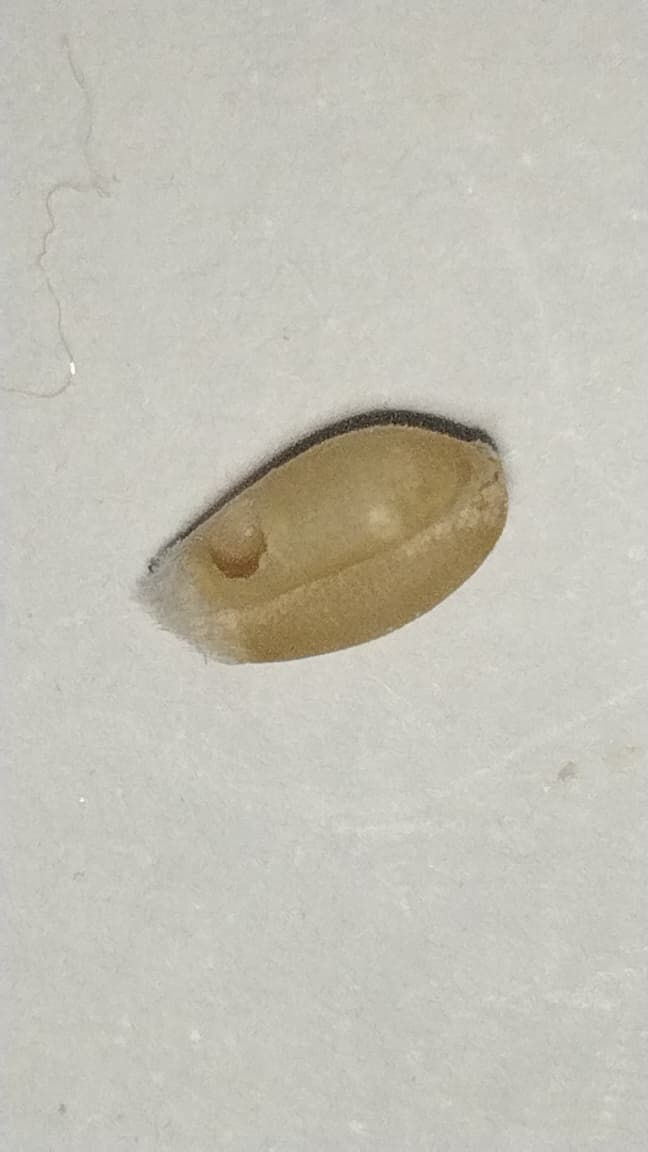damage: (173, 416, 507, 657)
insectdamage: (188, 502, 293, 605)
